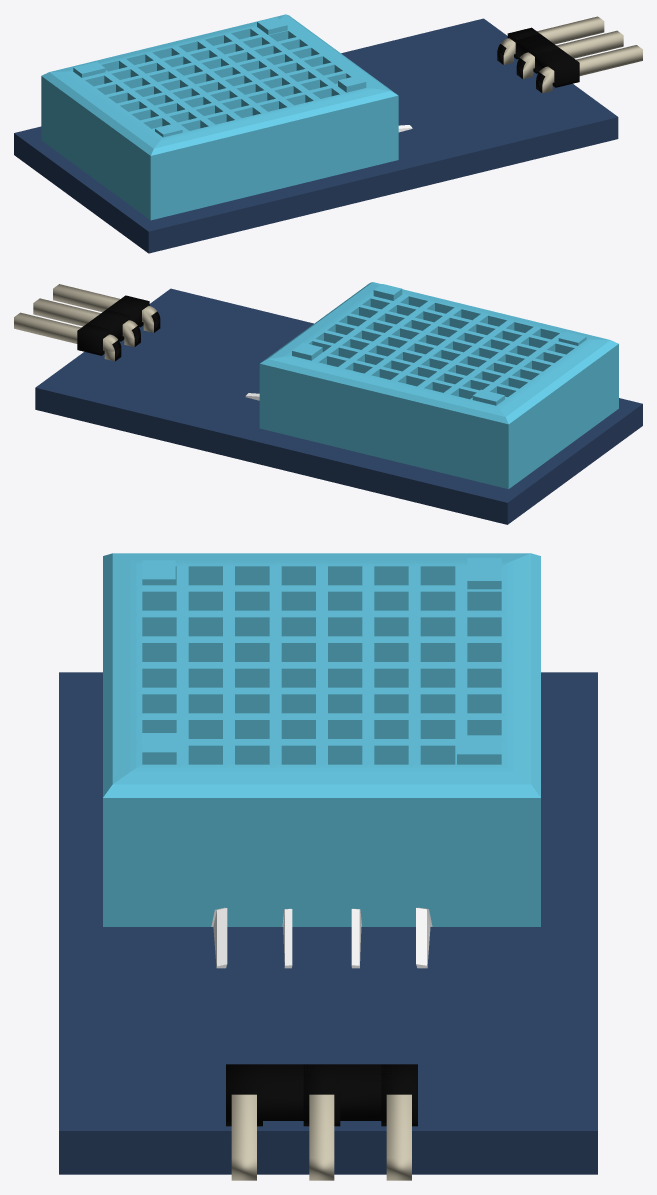
Rendered from DHT11 Temperature & Humidity Sensor.fbx.
3 views of the same model, one above another, from view 1: azimuth 30°, elevation 25°; view 2: azimuth 150°, elevation 25°; view 3: azimuth 270°, elevation 25° (orthographic). The views are drawn at different scales.
Visible parts, largest first — view 1: Plane.002; view 2: Plane.002; view 3: Plane.002.
Boxes of the visible parts, x1,y1,x2,y2 form: Plane.002: [14, 14, 642, 253]; Plane.002: [14, 282, 642, 524]; Plane.002: [59, 553, 597, 1180].
Bounding box in the file's own units: 23654 × 4135 × 10268.
